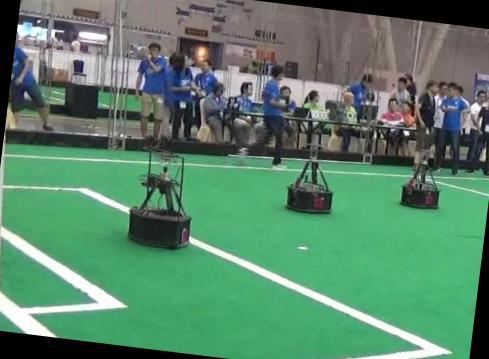person: (237, 65, 283, 165), (435, 82, 468, 174), (467, 99, 489, 174)
robot: (128, 150, 190, 247), (285, 145, 332, 212), (400, 148, 439, 208)
